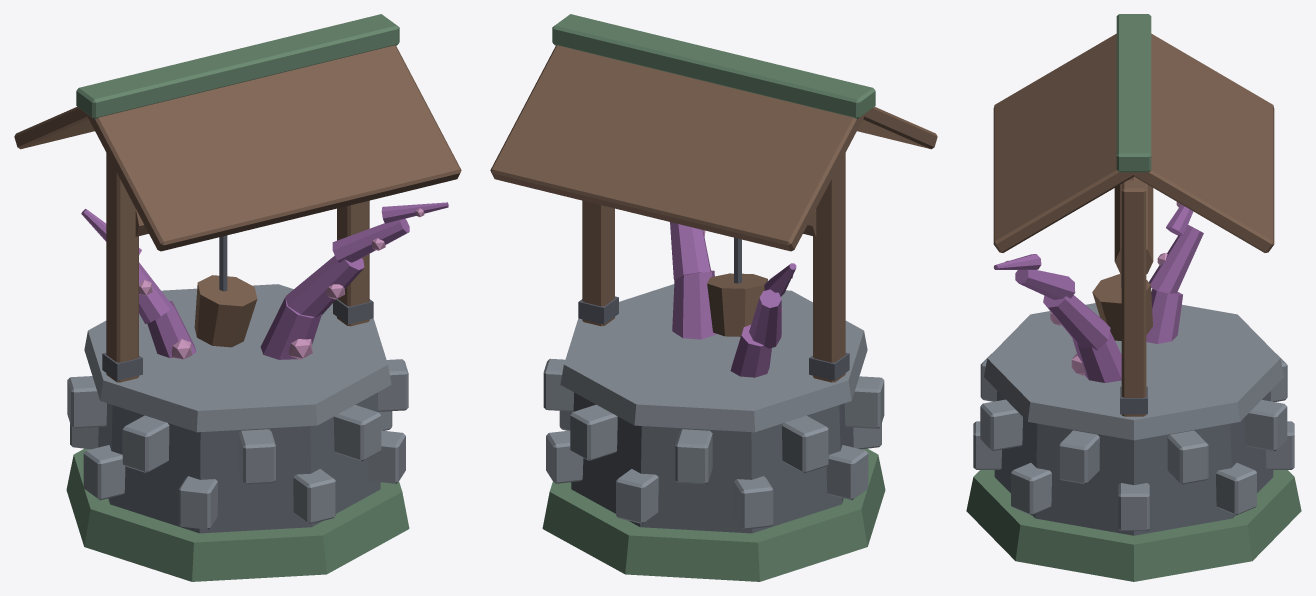
Rendered from outdoor_well.glb.
The picture shows the model from 3 angles, left to right: view 1: azimuth 30°, elevation 25°; view 2: azimuth 150°, elevation 25°; view 3: azimuth 270°, elevation 25°; orthographic projection. The views are drawn at different scales.
Visible parts, largest first — view 1: Outdoor_Well; view 2: Outdoor_Well; view 3: Outdoor_Well.
Boxes of the visible parts, box(x1,y1,x2,y2) form: Outdoor_Well: box(14, 14, 461, 581); Outdoor_Well: box(490, 14, 937, 581); Outdoor_Well: box(966, 14, 1301, 581).
Size of the model in its own units: 2.73 by 3.84 by 2.73.
